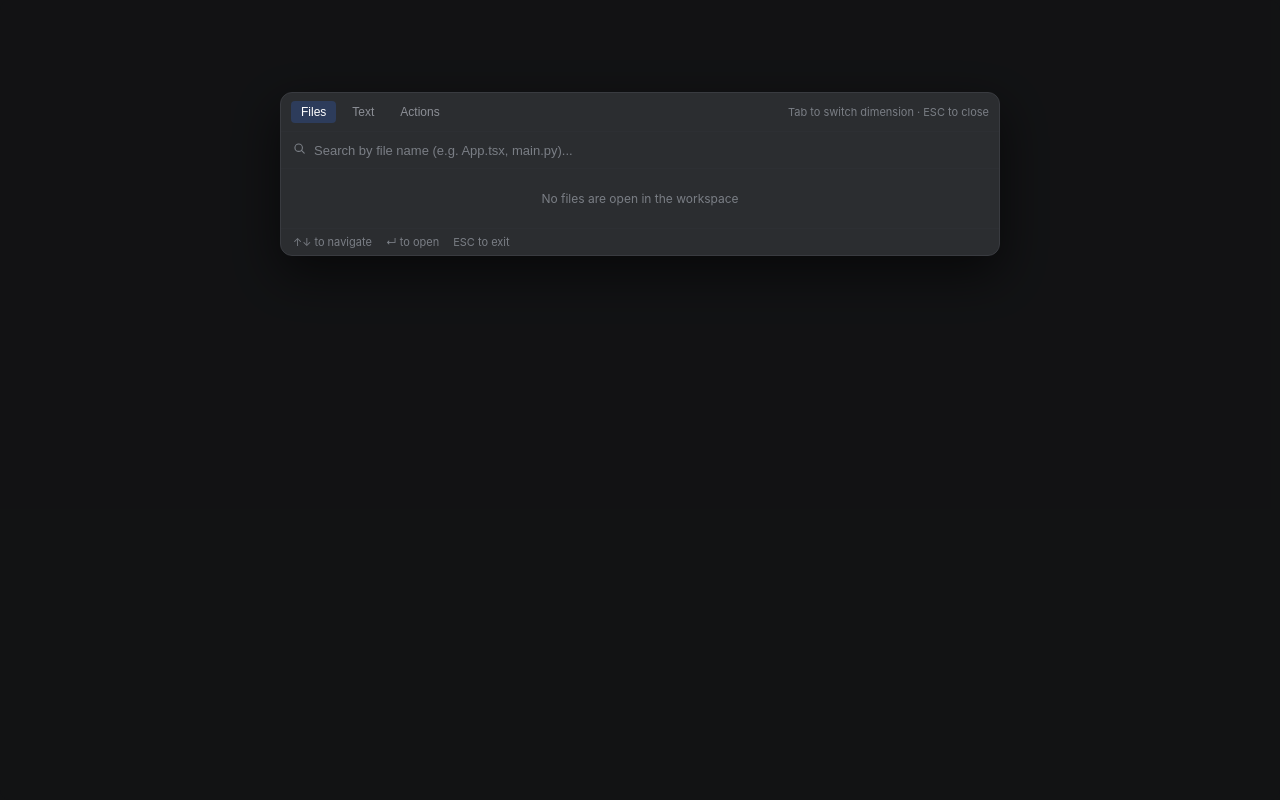
Test: SearchEverywhereModal actions › filters actions by the query
Click the button "Actions".
click(420, 112)  # box [390,101,450,123]
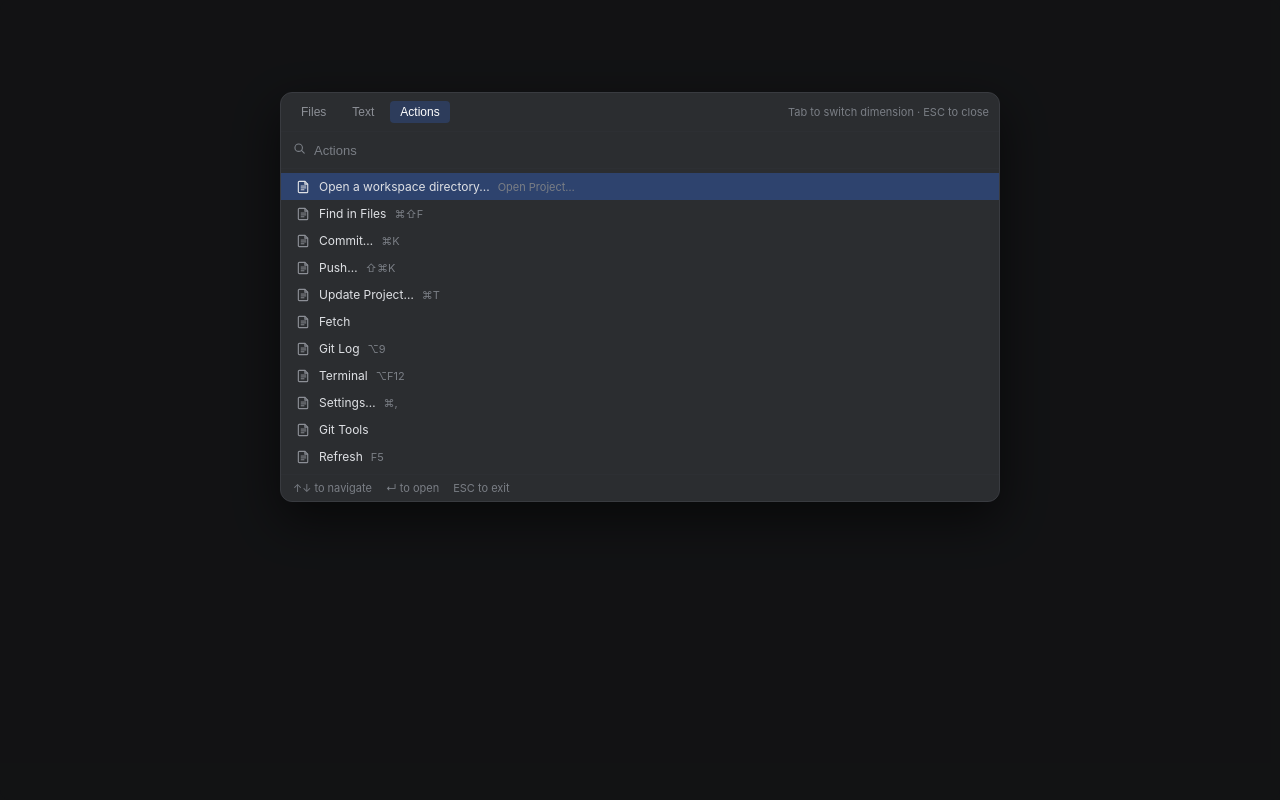
Type "terminal" into the field with placeholder "Actions".
click(650, 150); type("terminal")  # box [314,142,987,158]
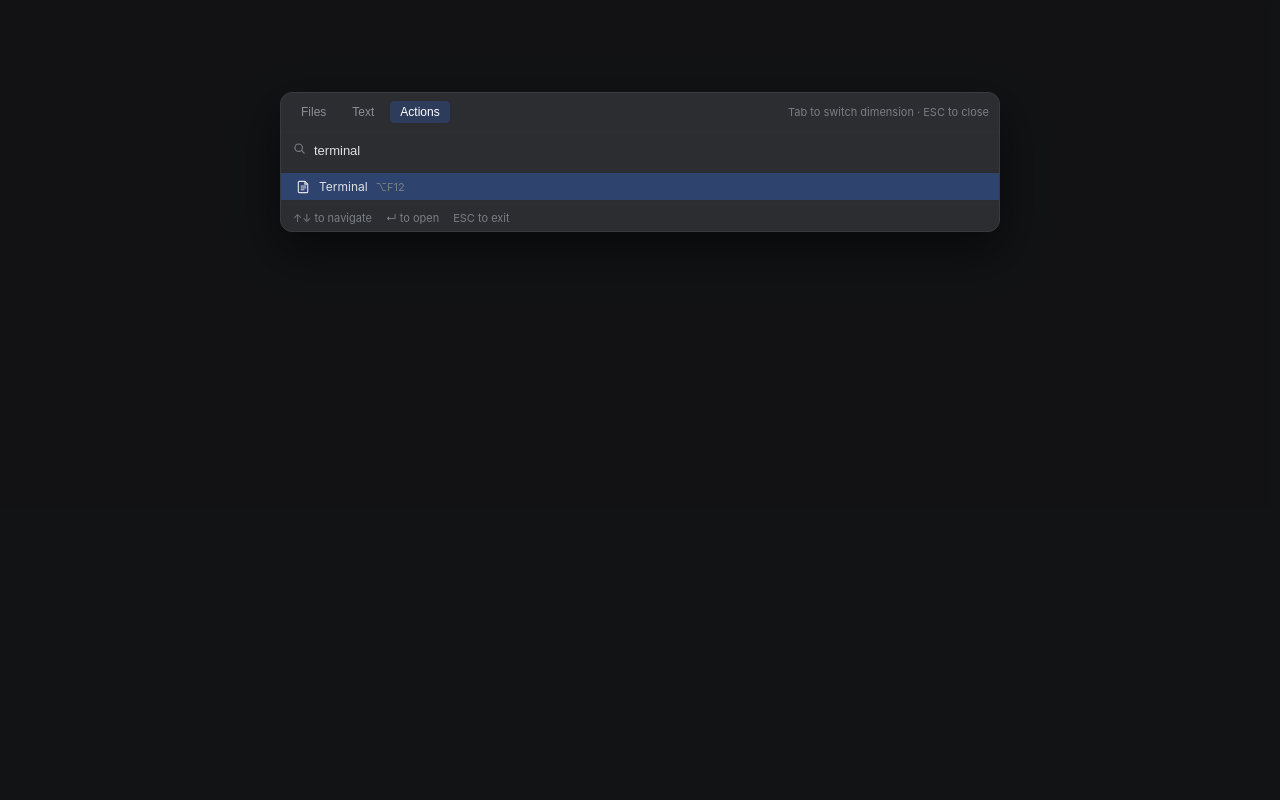
Result: the text "Terminal" is shown at [319,179,368,194]
Result: the text "Commit…" is gone
